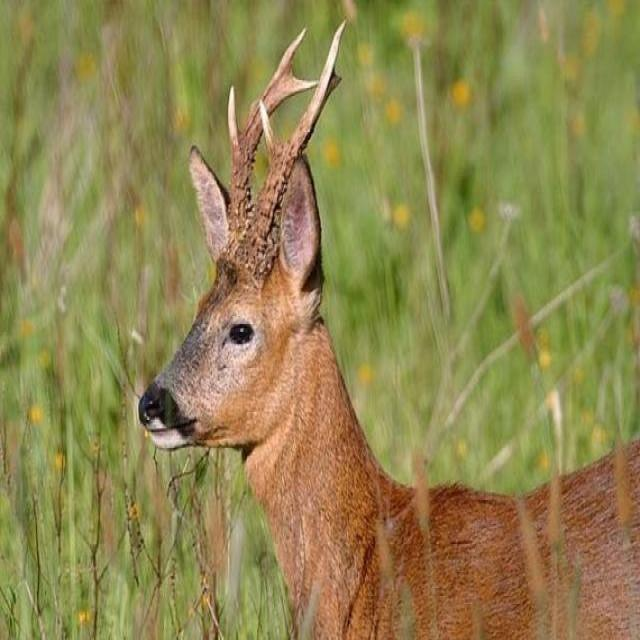deer: (109, 13, 640, 640)
